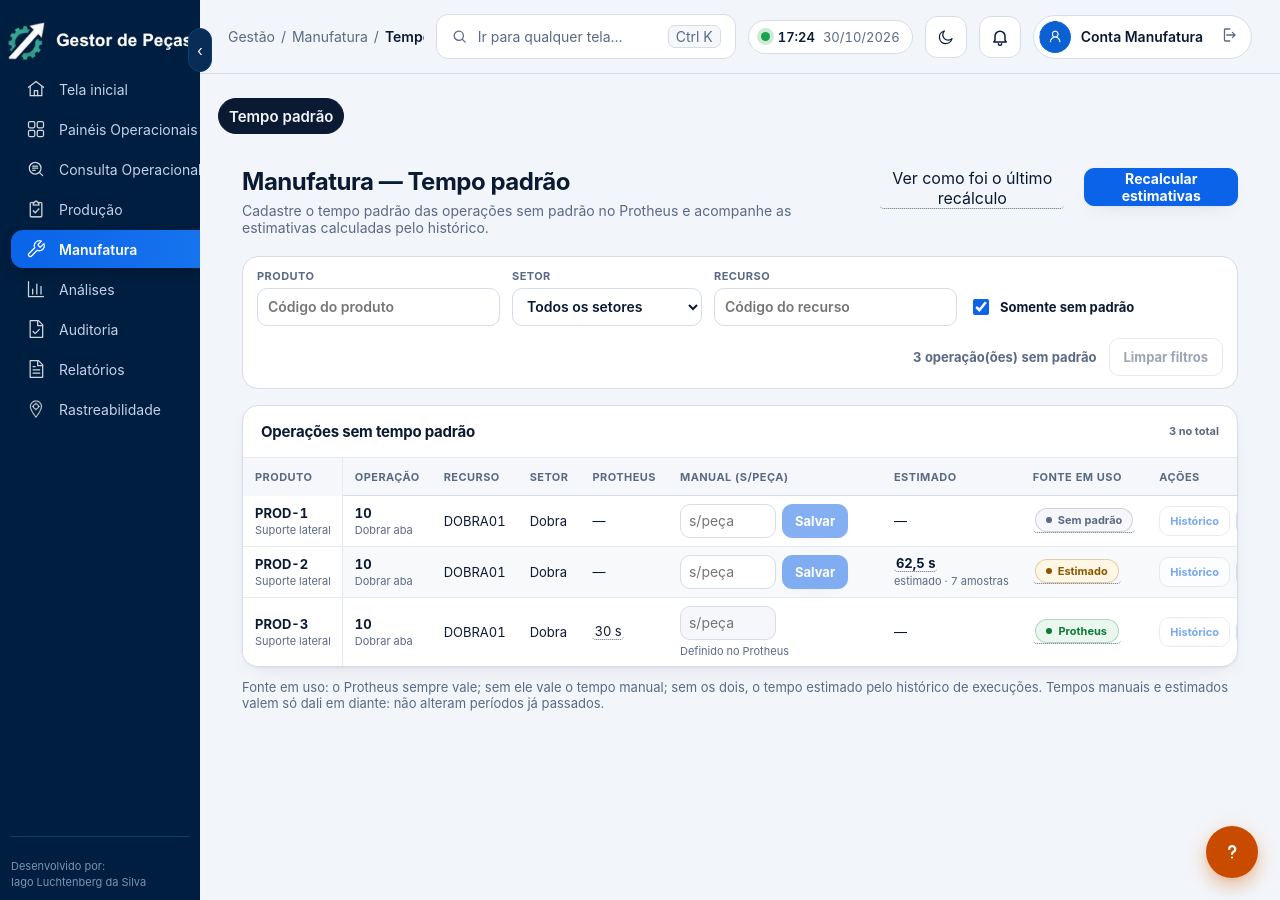
Tempo padrão — chave mista e vigência › lembra que o valor manual não altera períodos já passados ao editar
This screenshot has width=1280, height=900.
Expected: the text "PROD-1" is shown, top-left (255, 505), bottom-right (308, 521)
Expected: the text "não altera períodos já passados." is not shown
Type "30" into the field named "Tempo manual em segundos por peça: PROD-1" at (728, 521), box top-left (680, 504), bottom-right (776, 538)
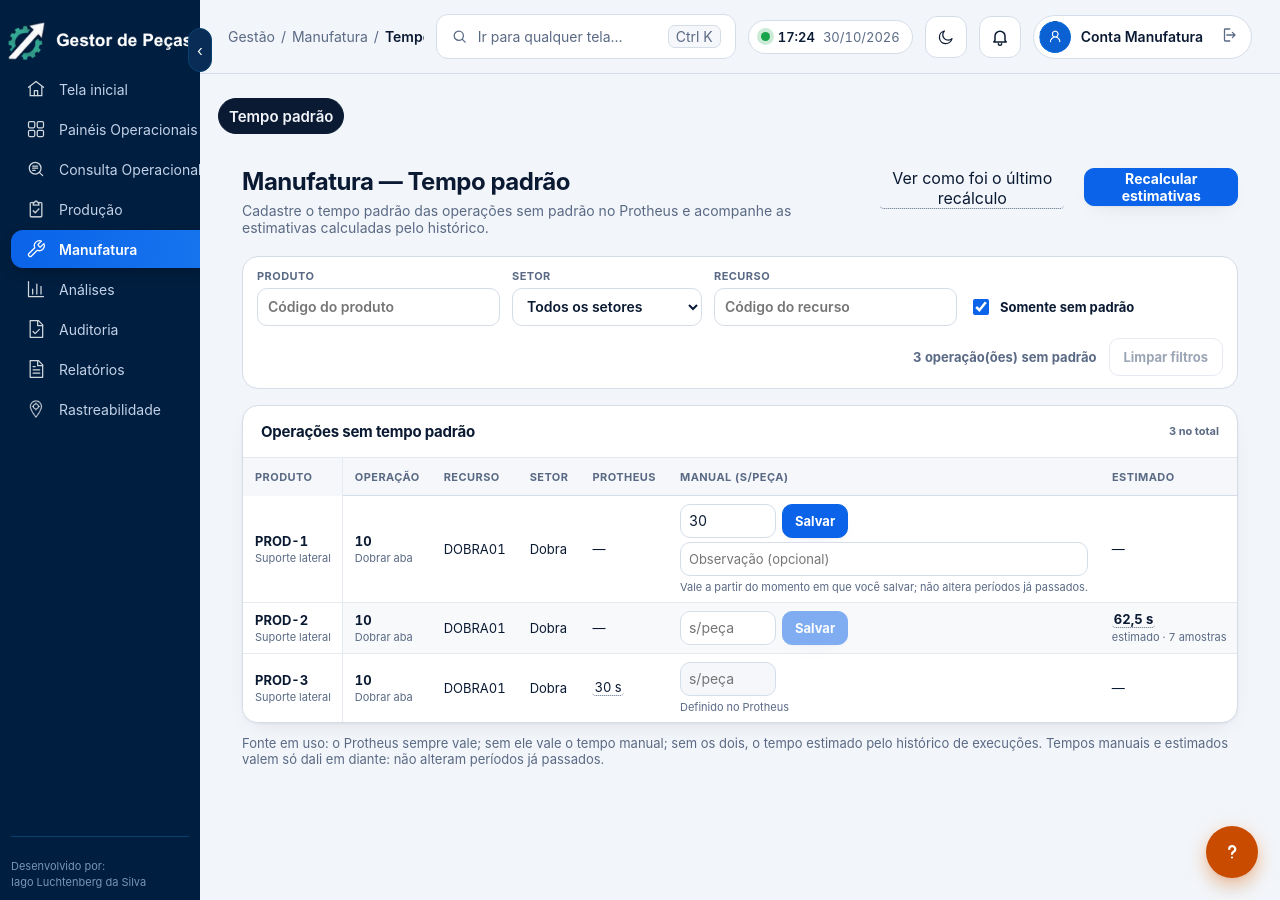
Now the text "Vale a partir do momento em que você salvar; não altera períodos já passados." is shown, box top-left (680, 580), bottom-right (1088, 594)
